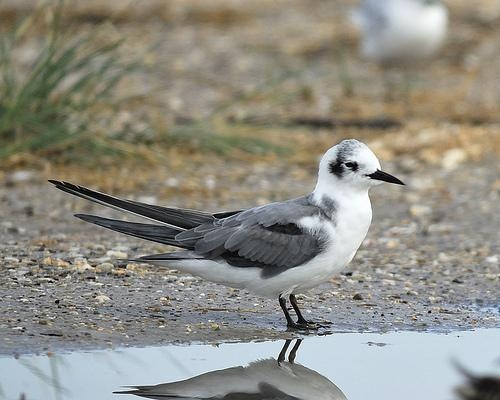bird: (41, 139, 406, 331)
